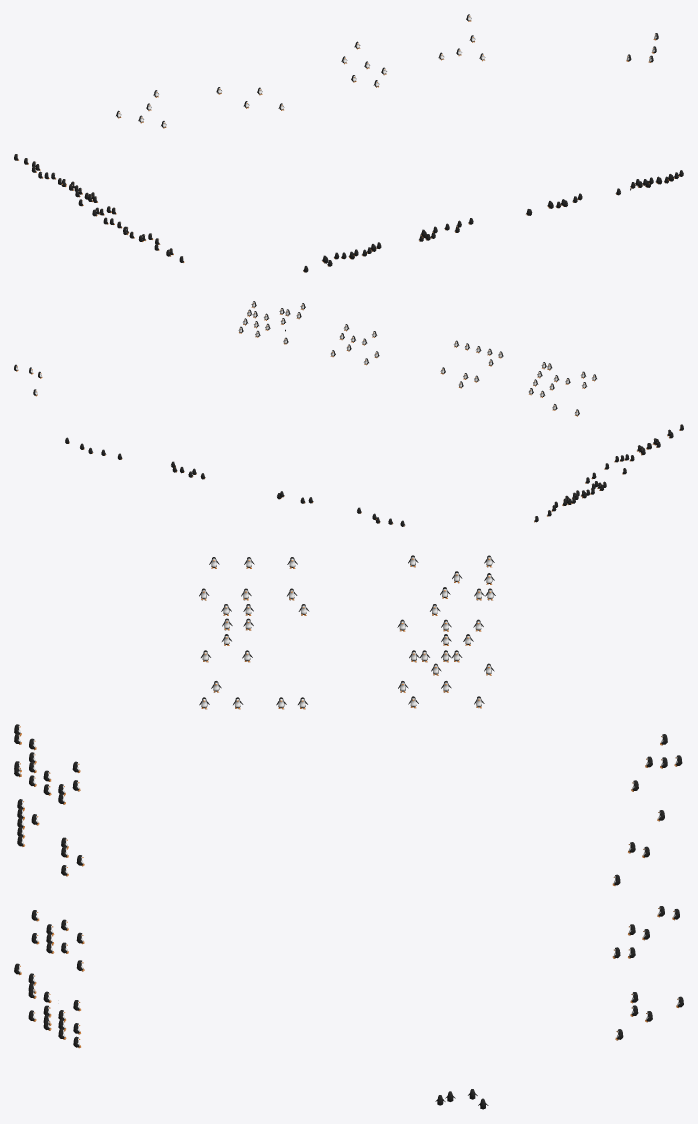
Rendered from GoopBlock1.gltf.
The picture shows the model from 3 angles, top to bottom: view 1: azimuth 30°, elevation 25°; view 2: azimuth 150°, elevation 25°; view 3: azimuth 270°, elevation 25°; orthographic projection. The views are drawn at different scales.
Parts seen in each view (by area): view 1: GoopieBlock1; view 2: GoopieBlock1; view 3: GoopieBlock1.
Boxes of the visible parts, left/top/right/bottom form: GoopieBlock1: left=14, top=14, right=683, bottom=272; GoopieBlock1: left=14, top=301, right=683, bottom=526; GoopieBlock1: left=14, top=555, right=683, bottom=1109.
Bounding box in the file's own units: 63.69 × 5.79 × 36.87.
1 material, 1 textured.
